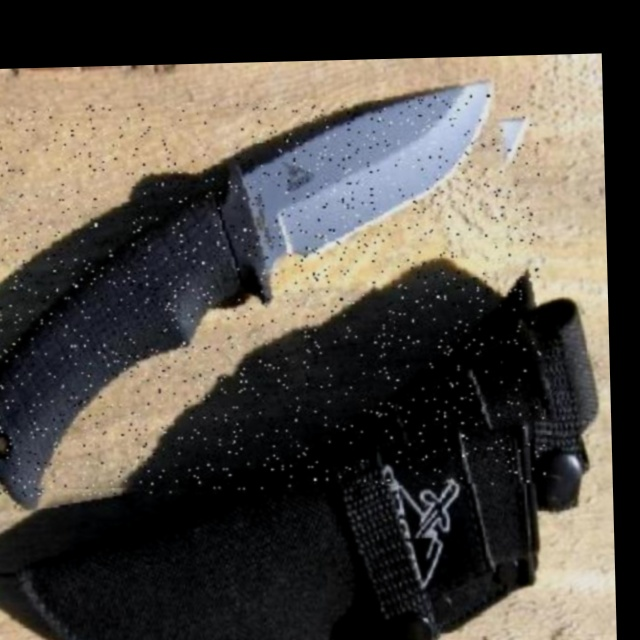Sharp-Object: (0, 93, 549, 499)
